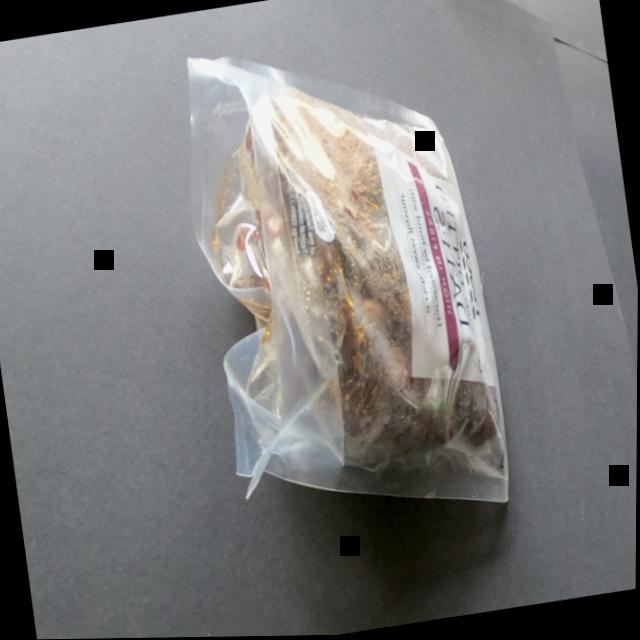Medjooldates: (141, 10, 531, 572)
